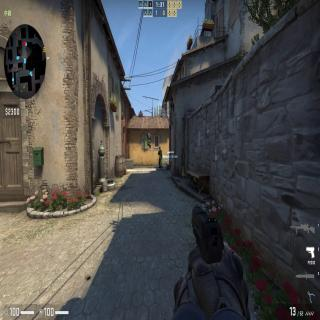T-Body: (146, 132, 152, 149)
T-Head: (148, 133, 150, 136)
